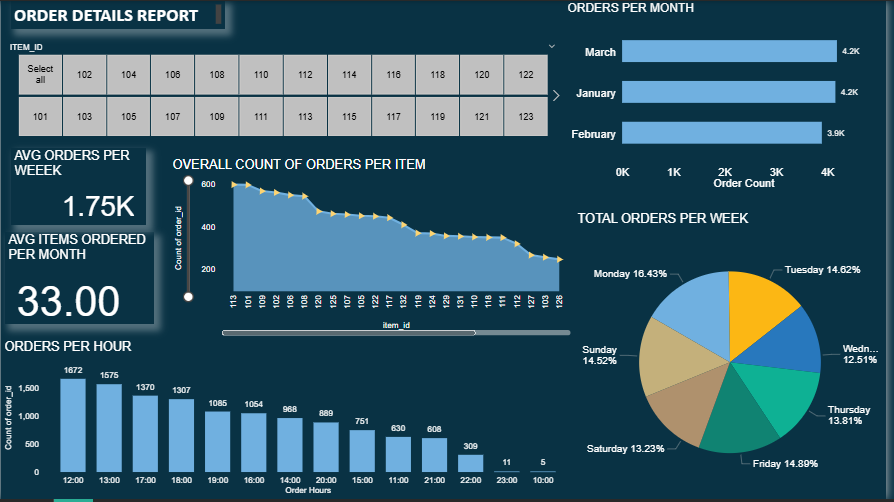

The dashboard page shown, as its layout file describes it:
{"tool":"powerbi","page":{"name":"Page 1","canvas":[1280,720],"ordinal":0},"visuals":[{"type":"barChart","title":"ORDERS PER MONTH","fields":{"Category":["order_details.Order_Months"],"Y":["CountNonNull(order_details.order_id)"]},"box":[814,0,451.1,277.6],"z":0},{"type":"pieChart","title":"TOTAL ORDERS PER WEEK","fields":{"Y":["CountNonNull(order_details.order_id)"],"Category":["WeekDayTable.Weekday"]},"box":[828.4,303.6,451.1,416.4],"z":1000},{"type":"clusteredColumnChart","title":"ORDERS PER HOUR","fields":{"Y":["CountNonNull(order_details.order_id)"],"Category":["HoursOfDay.HourLabel"]},"box":[0,488.7,828.4,231.3],"z":2000},{"type":"areaChart","title":"OVERALL COUNT OF ORDERS PER ITEM","fields":{"Category":["order_details.item_id"],"Y":["Count(order_details.order_id)"]},"box":[242.9,225.5,585.5,263.1],"z":3000},{"type":"slicer","fields":{"Values":["order_details.item_id"]},"box":[0,54.9,814,147.5],"z":4000},{"type":"textbox","box":[14.5,0,309.4,40.5],"z":5000},{"type":"cardVisual","title":"AVG ORDERS PER WEEEK","fields":{"Data":["order_details.Average Orders Per Week"]},"box":[14.5,212.5,195.2,111.3],"z":6000},{"type":"cardVisual","title":"AVG ITEMS ORDERED PER MONTH","fields":{"Data":["order_details.Average Items Per Month"]},"box":[5.8,334,215.4,133],"z":7000}]}

Visuals, with their boxes in screenshot pixels (x1, y1, x2, y2), scaled from the page's 1280x720 canvas onto the 894x502 screenshot:
"ORDERS PER MONTH" barChart: <region>569, 0, 884, 194</region>
"TOTAL ORDERS PER WEEK" pieChart: <region>579, 212, 893, 501</region>
"ORDERS PER HOUR" clusteredColumnChart: <region>0, 341, 579, 501</region>
"OVERALL COUNT OF ORDERS PER ITEM" areaChart: <region>170, 157, 579, 341</region>
slicer - order_details.item_id: <region>0, 38, 569, 141</region>
textbox: <region>10, 0, 226, 28</region>
"AVG ORDERS PER WEEEK" cardVisual: <region>10, 148, 146, 226</region>
"AVG ITEMS ORDERED PER MONTH" cardVisual: <region>4, 233, 154, 326</region>
